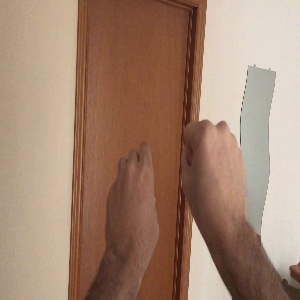hand: (181, 121, 247, 223), (106, 143, 159, 256)
